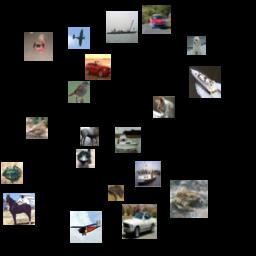airplane: (70, 211, 102, 243), (68, 27, 90, 49)
automobile: (122, 204, 157, 239), (142, 5, 171, 34), (85, 54, 111, 80)
bird: (26, 117, 48, 139), (68, 81, 90, 103), (76, 149, 95, 168)
cat: (153, 96, 175, 118)
dog: (24, 32, 53, 61), (187, 36, 206, 55)
frog: (170, 180, 208, 218), (1, 162, 23, 184), (108, 185, 124, 201)
ship: (106, 11, 138, 43), (189, 66, 221, 98), (115, 127, 141, 153), (135, 161, 161, 187)
